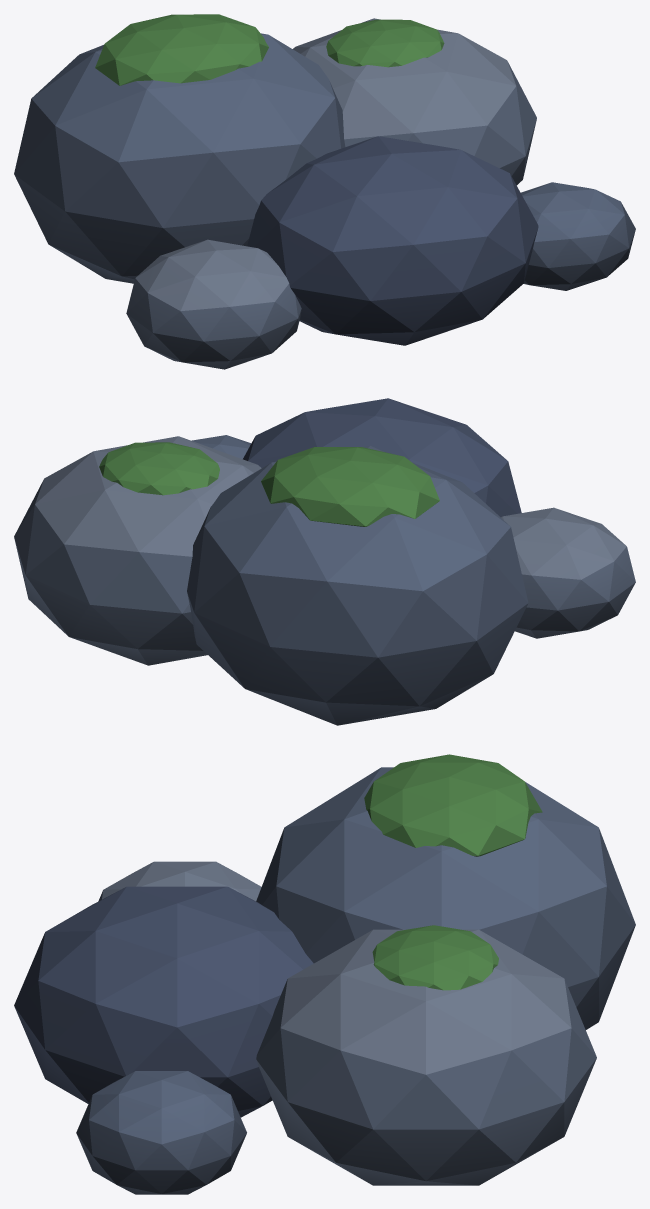
The model's file is boulders.glb.
3 renders of one model, top to bottom at view 1: azimuth 30°, elevation 25°; view 2: azimuth 150°, elevation 25°; view 3: azimuth 270°, elevation 25°, orthographic. The views are drawn at different scales.
Parts seen in each view (by area): view 1: mesh_boulders; view 2: mesh_boulders; view 3: mesh_boulders.
Boxes of the visible parts, bbox=[...] form: mesh_boulders: bbox=[14, 14, 635, 369]; mesh_boulders: bbox=[14, 398, 635, 725]; mesh_boulders: bbox=[14, 754, 635, 1194].
Size of the model in its own units: 1.66 by 0.82 by 1.6.
